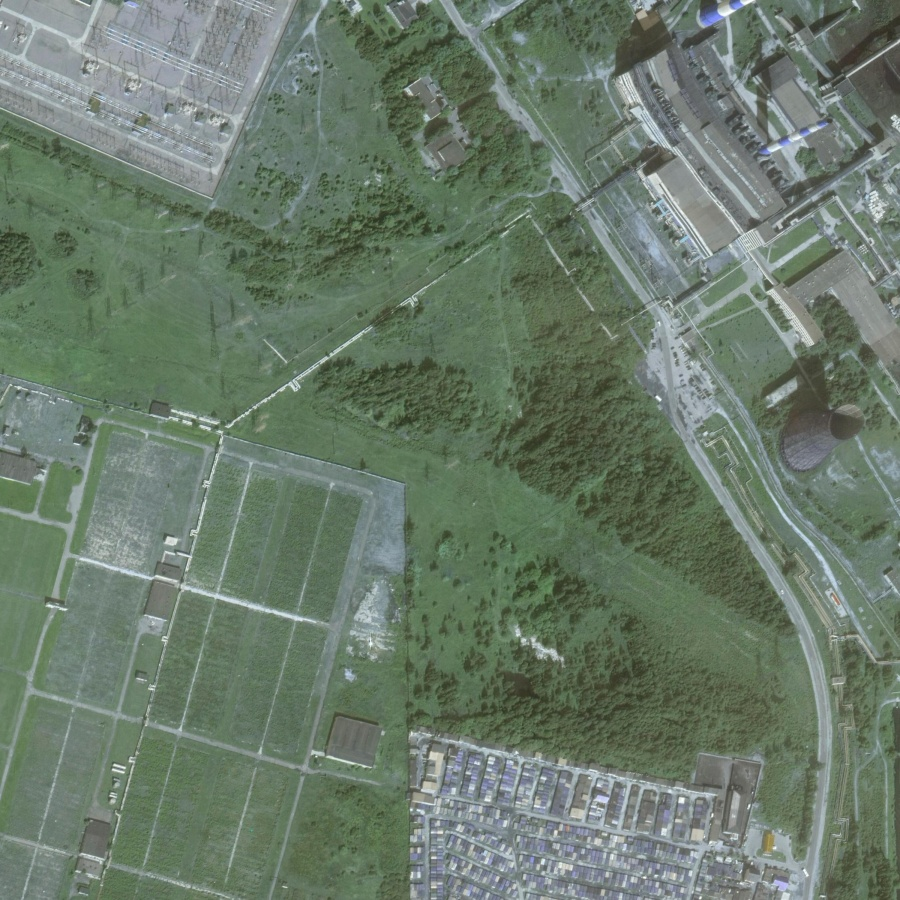PowerPlant: (755, 353, 884, 483)
